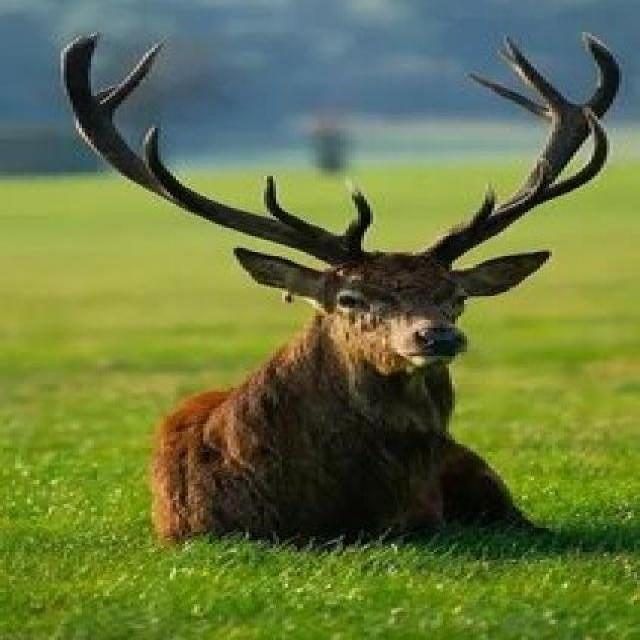deer: (62, 83, 640, 562)
